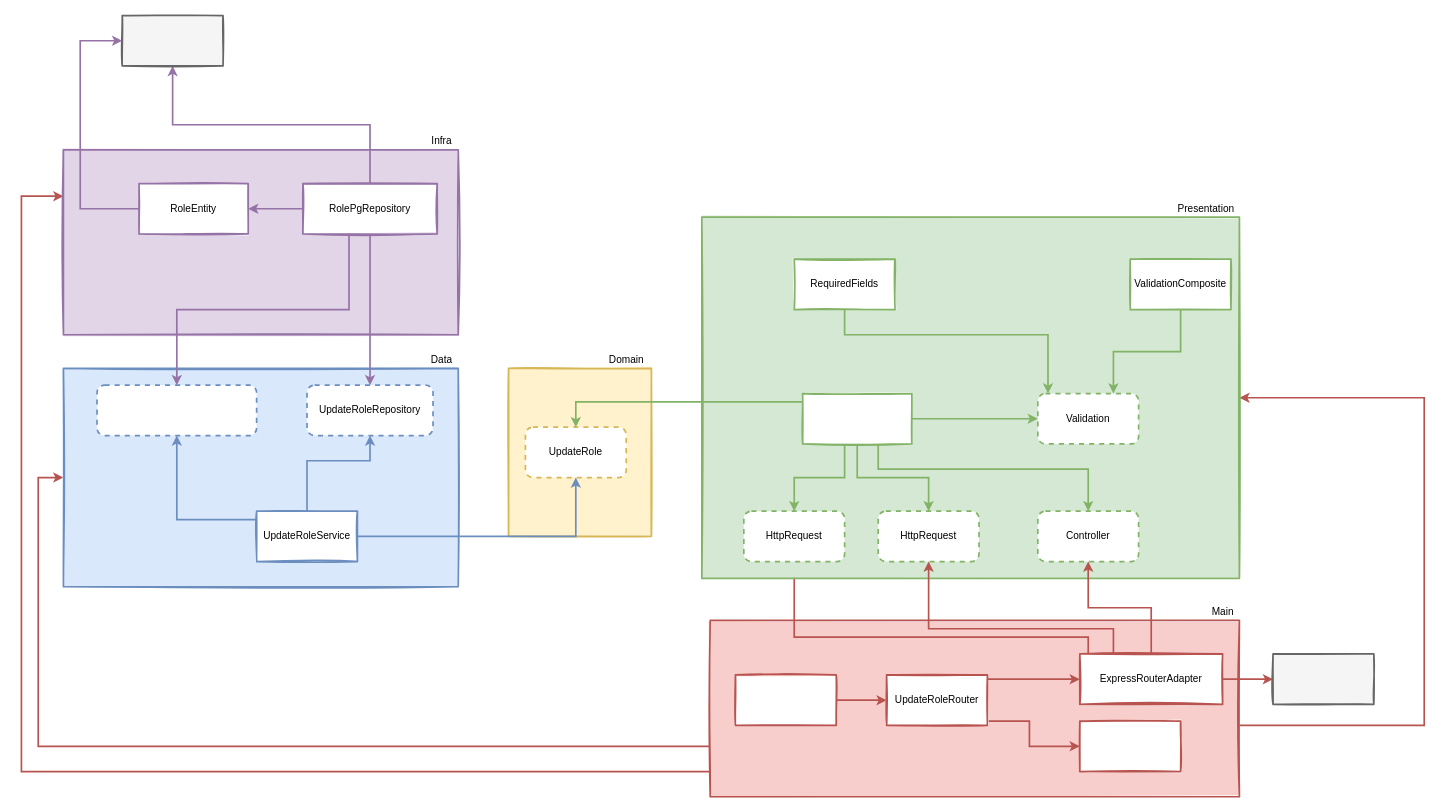
Image size: 1446x811. Some labels were removed from this diagram. The shapes that lost their labels are listed below. From the top down, each one's centre as x and y in pixels, then its label:
(172,40): TypeOrm
(176,410): LoadRoleByIdRepository
(856,418): UpdateRoleController
(1323,679): Express
(785,700): App
(1130,746): UpdateRoleFactory
